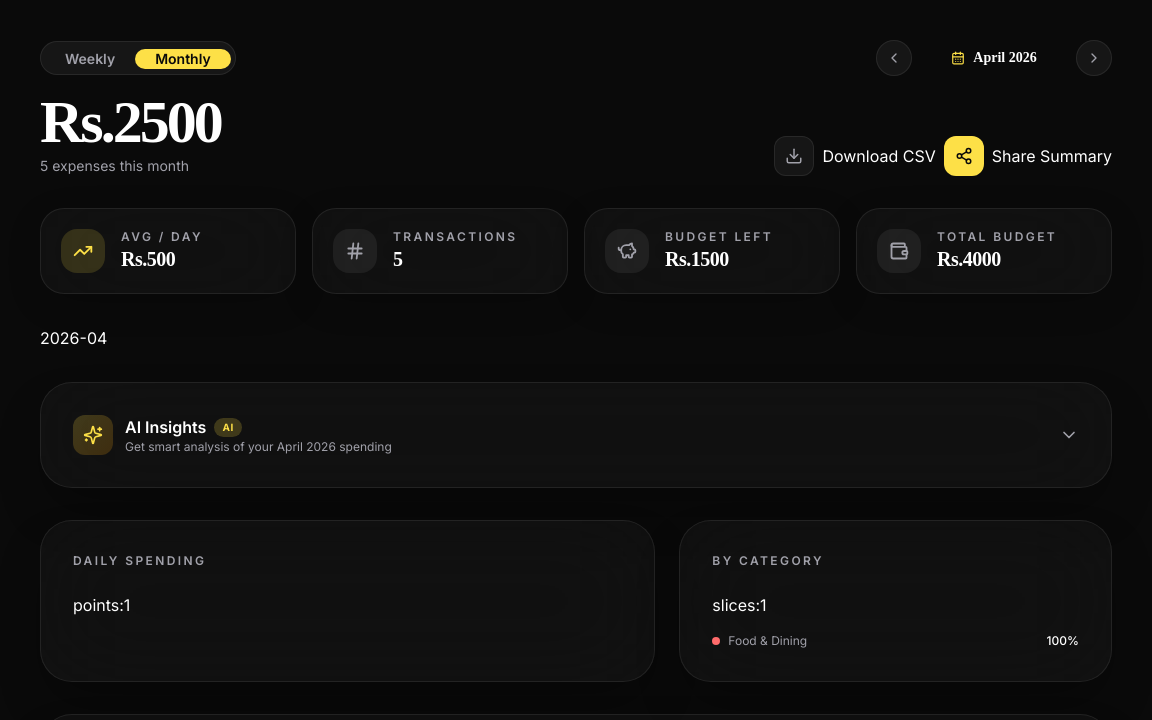
Test case: Dashboard page regressions › loads AI insights on demand and shows the returned text
Click the button that starts with "AI Insights" at (93, 435), box [73, 415, 1079, 455]
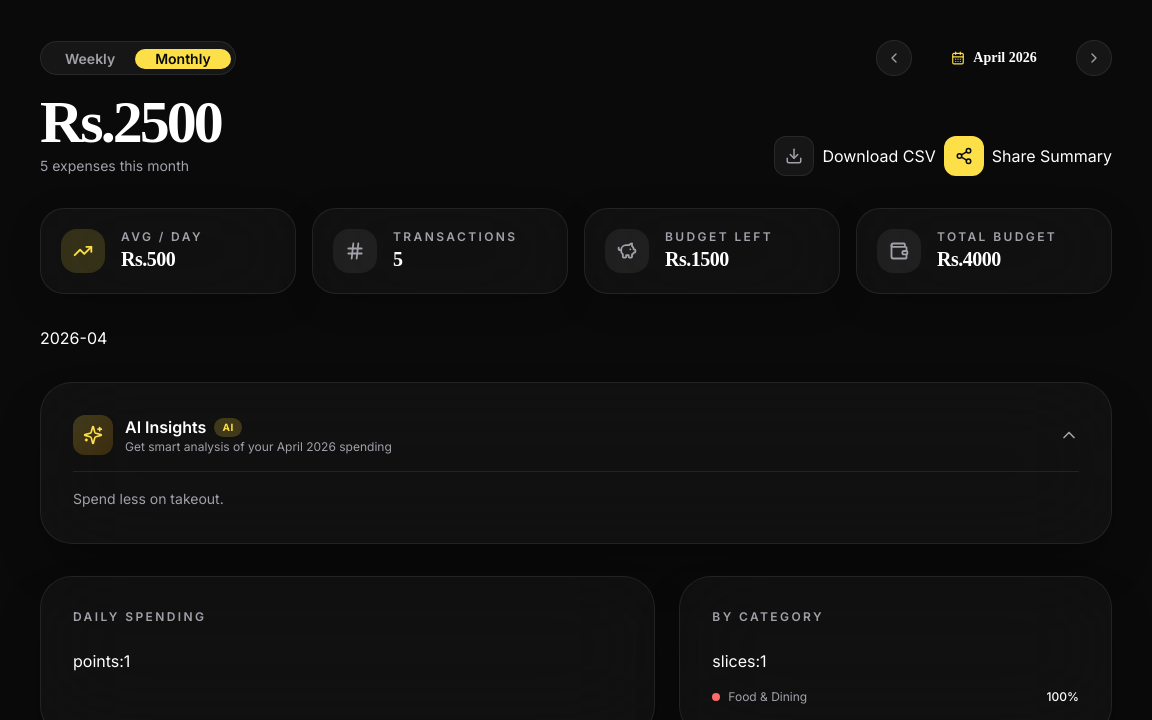
expect the text "Spend less on takeout." is shown: met, box [73, 490, 224, 507]
